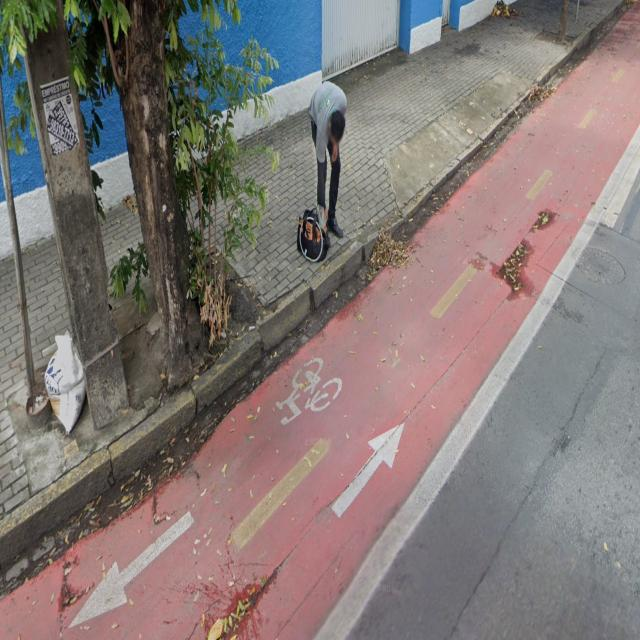Buraco: (200, 566, 288, 640)
